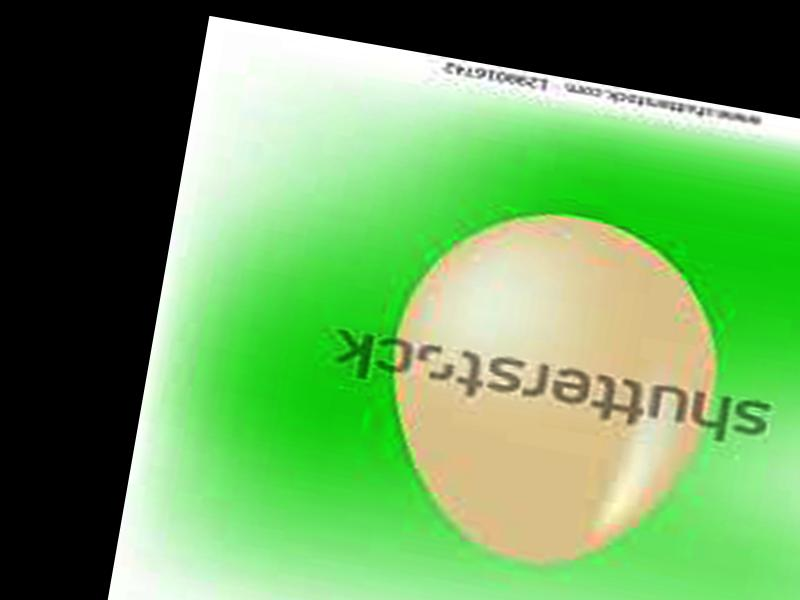Eggs: (361, 191, 738, 588)
